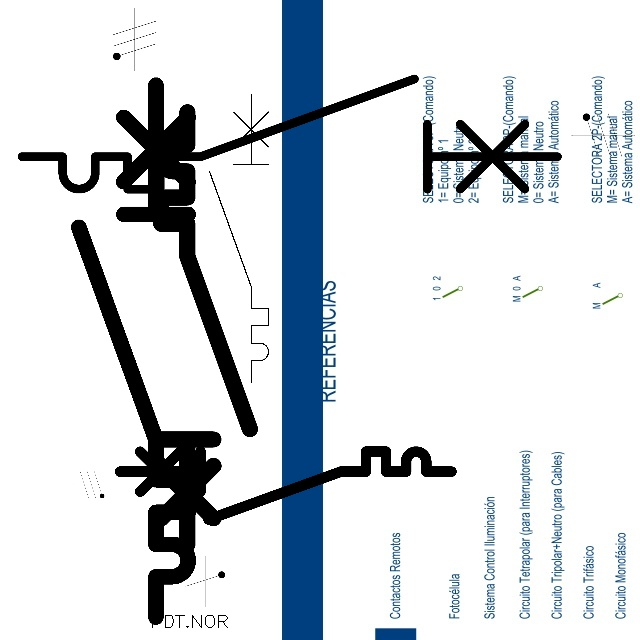interruptor_termomagnetico: (8, 65, 571, 203), (65, 71, 202, 631), (150, 101, 261, 555), (111, 443, 459, 528), (202, 87, 276, 390)
